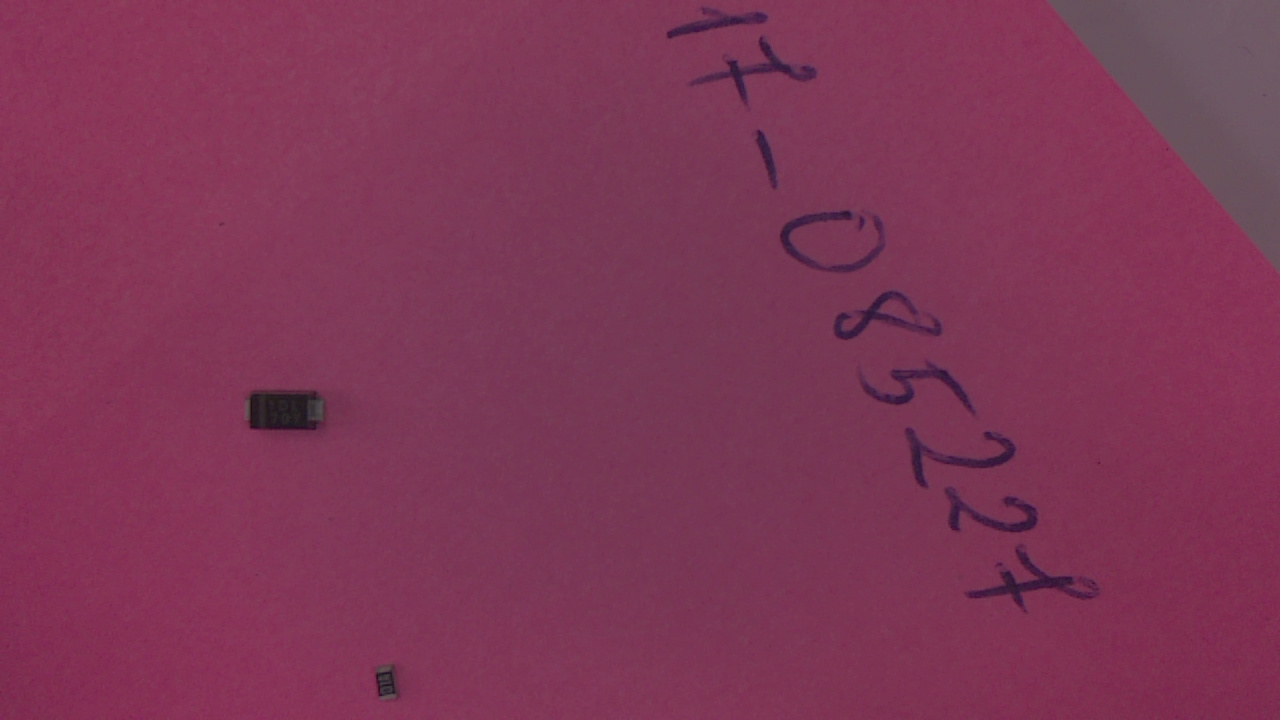Diode: (243, 392, 331, 441)
Resistor: (376, 670, 407, 707)
